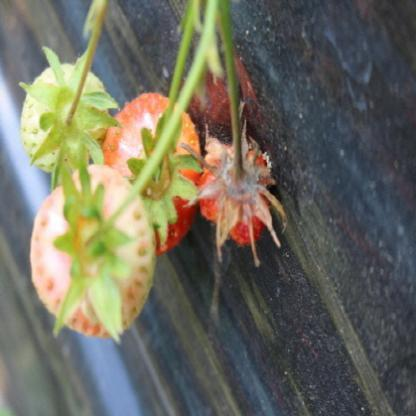Strawberry_Gray_Mold: (179, 117, 287, 266)
